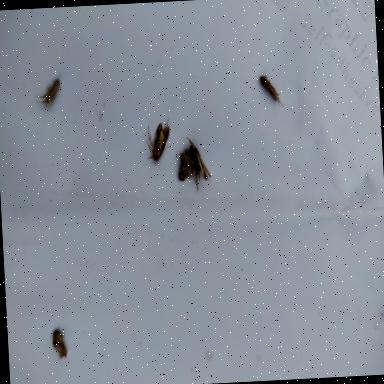pbw: (186, 136, 212, 192), (144, 118, 172, 166), (259, 74, 284, 108), (34, 79, 61, 106)
